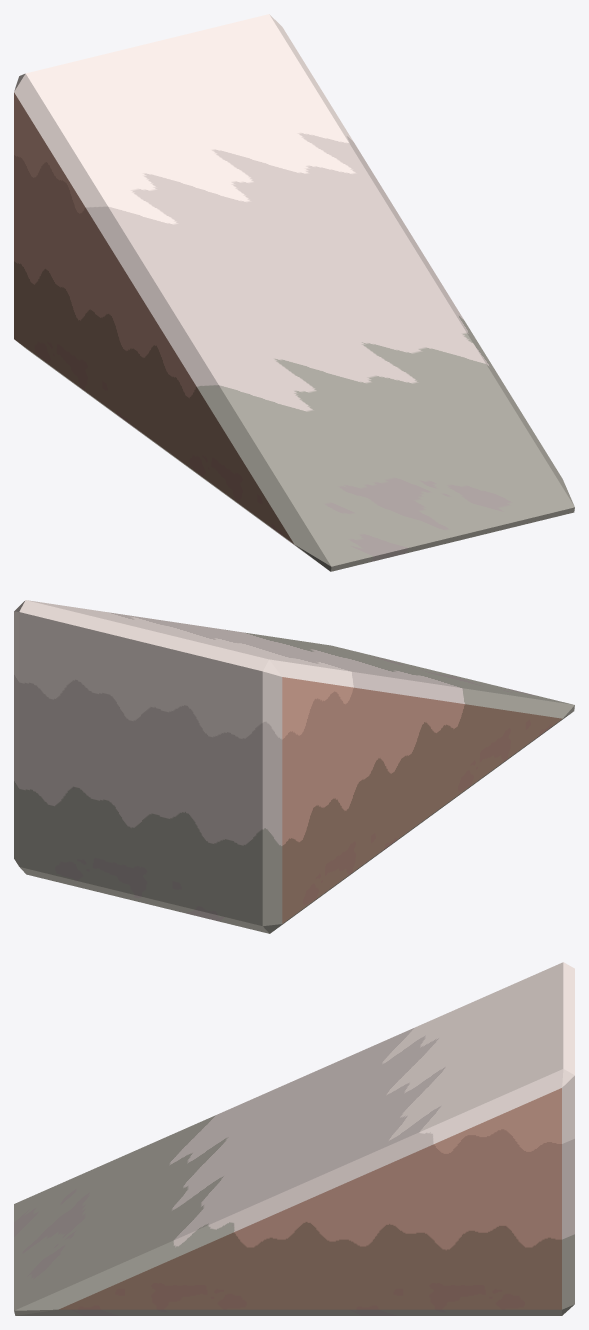
Rendered from R4B_LongWedge_LOD1.glb.
3 renders of one model, top to bottom at view 1: azimuth 30°, elevation 25°; view 2: azimuth 150°, elevation 25°; view 3: azimuth 270°, elevation 25°, orthographic. The views are drawn at different scales.
Parts seen in each view (by area): view 1: R4B_LongWedge_LOD1; view 2: R4B_LongWedge_LOD1; view 3: R4B_LongWedge_LOD1.
Boxes of the visible parts, <box> form: R4B_LongWedge_LOD1: <box>14,14,574,571</box>; R4B_LongWedge_LOD1: <box>14,600,574,933</box>; R4B_LongWedge_LOD1: <box>14,962,574,1315</box>.
Bounding box in the file's own units: 0.52 × 0.5095 × 1.05.
2 materials, 2 textured.
